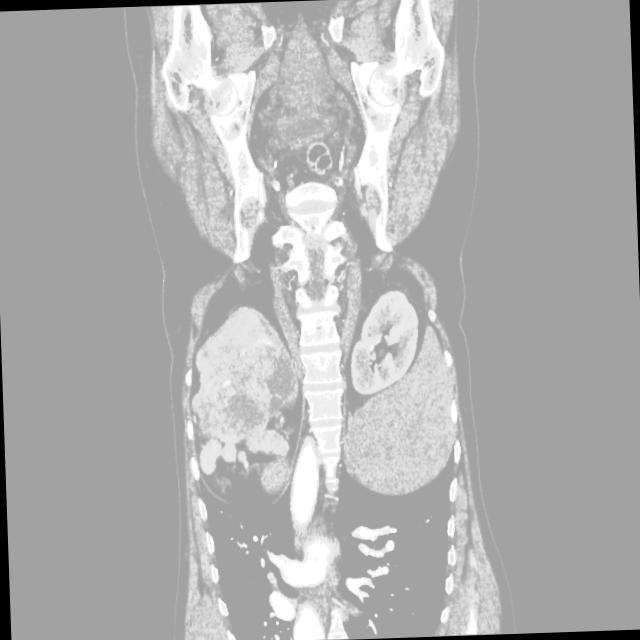TUMOR: (182, 237, 482, 451)
